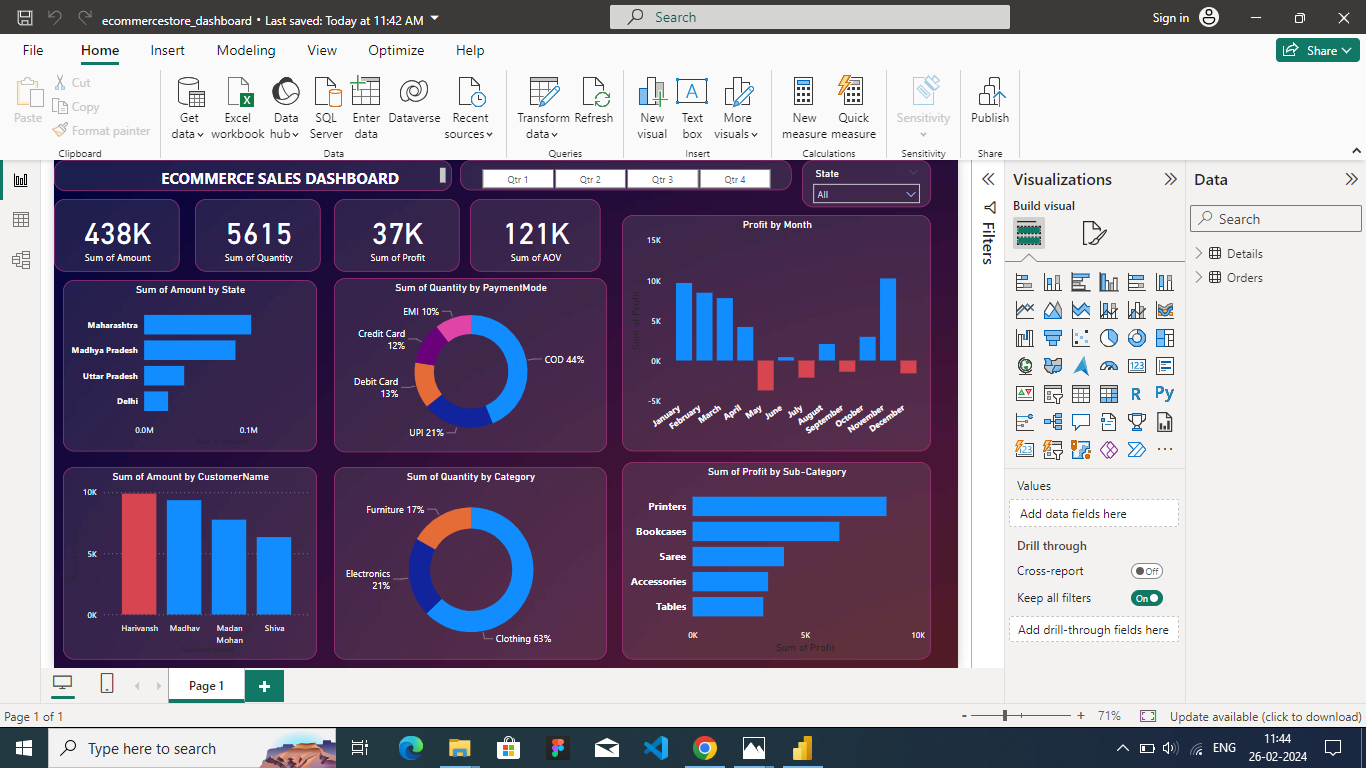

What the dashboard file says about the page in this screenshot:
{"tool":"powerbi","page":{"name":"Page 1","canvas":[1280,720],"ordinal":0},"visuals":[{"type":"textbox","box":[0,0,564.4,43.7],"z":0},{"type":"columnChart","title":" Profit by Month","fields":{"Category":["Orders.Order Date.Variation.Date Hierarchy.Month"],"Y":["Details.Profit"]},"box":[805,78.3,438.3,335],"z":1000},{"type":"barChart","fields":{"Category":["Details.Sub-Category"],"Y":["Details.Profit"]},"box":[805,428.3,438.3,280],"z":2000},{"type":"donutChart","fields":{"Category":["Details.Category"],"Y":["Details.Quantity"]},"box":[396.7,435,386.7,273.3],"z":3000},{"type":"donutChart","fields":{"Y":["Details.Quantity"],"Category":["Details.PaymentMode"]},"box":[396.7,166.7,386.7,246.7],"z":4000},{"type":"card","fields":{"Values":["Details.Amount"]},"box":[0,55,178.3,103.3],"z":5000},{"type":"card","fields":{"Values":["Details.Quantity"]},"box":[200,55,178.3,103.3],"z":6000},{"type":"card","fields":{"Values":["Details.Profit"]},"box":[396.7,55,178.3,103.3],"z":7000},{"type":"card","fields":{"Values":["Details.AOV"]},"box":[590,55,185,103.3],"z":8000},{"type":"barChart","fields":{"Category":["Orders.State"],"Y":["Details.Amount"]},"box":[13.3,170,360,243.3],"z":9000},{"type":"columnChart","fields":{"Category":["Orders.CustomerName"],"Y":["Details.Amount"]},"box":[13,435,360,273],"z":10000},{"type":"slicer","fields":{"Values":["Orders.Order Date.Variation.Date Hierarchy.Quarter"]},"box":[575,0,470,43.3],"z":11000},{"type":"slicer","fields":{"Values":["Orders.State"]},"box":[1060,0,183.3,66.7],"z":12000}]}

Visuals, with their boxes on the page's 1280x720 design canvas (x1, y1, x2, y2). These are canvas units, not pixel positions in the 1366x768 screenshot, which may show the page scaled, cropped or inside an application window:
textbox: [0,0,564,44]
" Profit by Month" columnChart: [805,78,1243,413]
barChart - Details.Sub-Category x Details.Profit: [805,428,1243,708]
donutChart - Details.Category x Details.Quantity: [397,435,783,708]
donutChart - Details.Quantity x Details.PaymentMode: [397,167,783,413]
card - Details.Amount: [0,55,178,158]
card - Details.Quantity: [200,55,378,158]
card - Details.Profit: [397,55,575,158]
card - Details.AOV: [590,55,775,158]
barChart - Orders.State x Details.Amount: [13,170,373,413]
columnChart - Orders.CustomerName x Details.Amount: [13,435,373,708]
slicer - Orders.Order Date.Variation.Date Hierarchy.Quarter: [575,0,1045,43]
slicer - Orders.State: [1060,0,1243,67]
